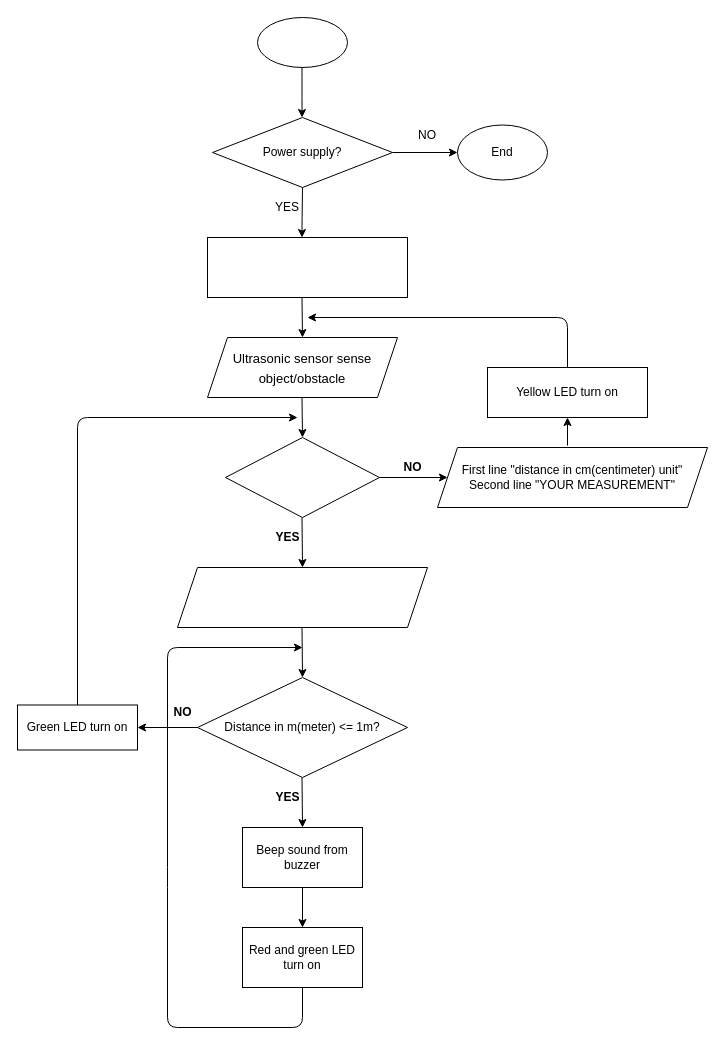
This 725x1053 diagram has some shape labels left out. Each missing label, with the centre of its shape:
First line "SOCIAL DISTANCE" Second line "distance in m(meter) unit": (x=302, y=597)
LCD show "SOCIAL DISTANCE FINAL PROJECT": (x=307, y=267)
PIR sensor HIGH?: (x=302, y=477)
Start: (x=302, y=42)
